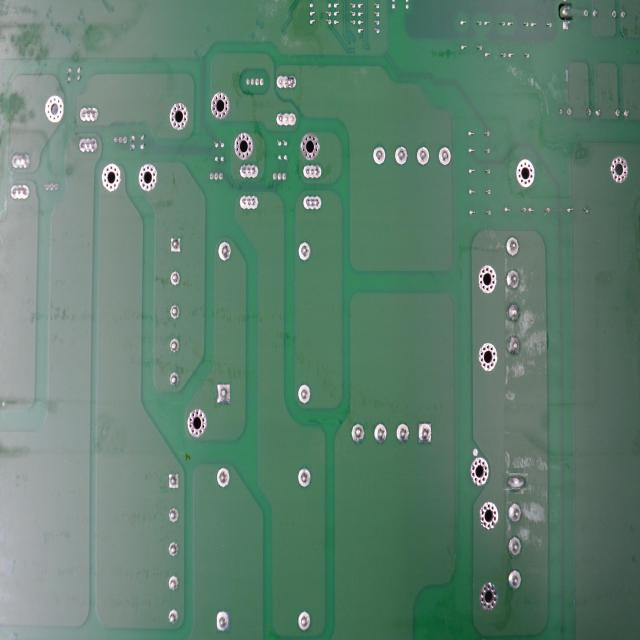slug: (503, 329, 524, 361), (504, 470, 526, 492)
